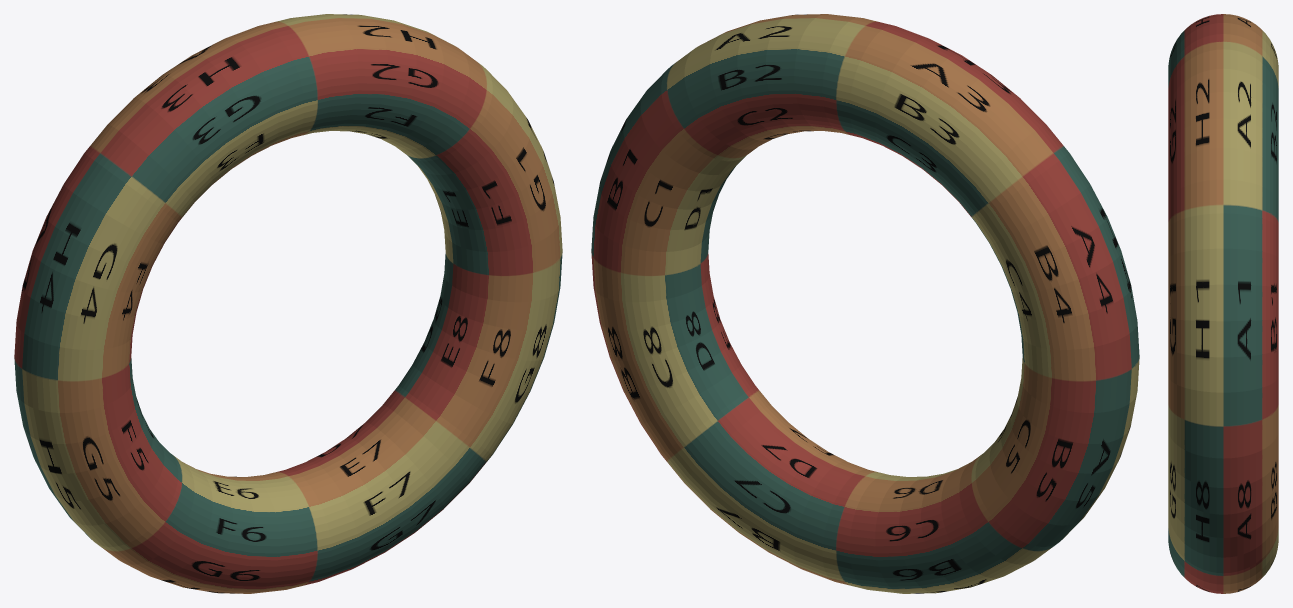
The model's file is texture_torus_R25_r16.glb.
3 views of the same model, side by side, from view 1: azimuth 30°, elevation 25°; view 2: azimuth 150°, elevation 25°; view 3: azimuth 270°, elevation 25° (orthographic). The views are drawn at different scales.
Visible parts, largest first — view 1: world; view 2: world; view 3: world.
Part boxes in pixels (<box>): world: <box>14,14,562,593</box>; world: <box>591,14,1139,593</box>; world: <box>1168,14,1278,593</box>.
Size of the model in its own units: 32.93 by 32.87 by 6.25.
1 material, 1 textured.
